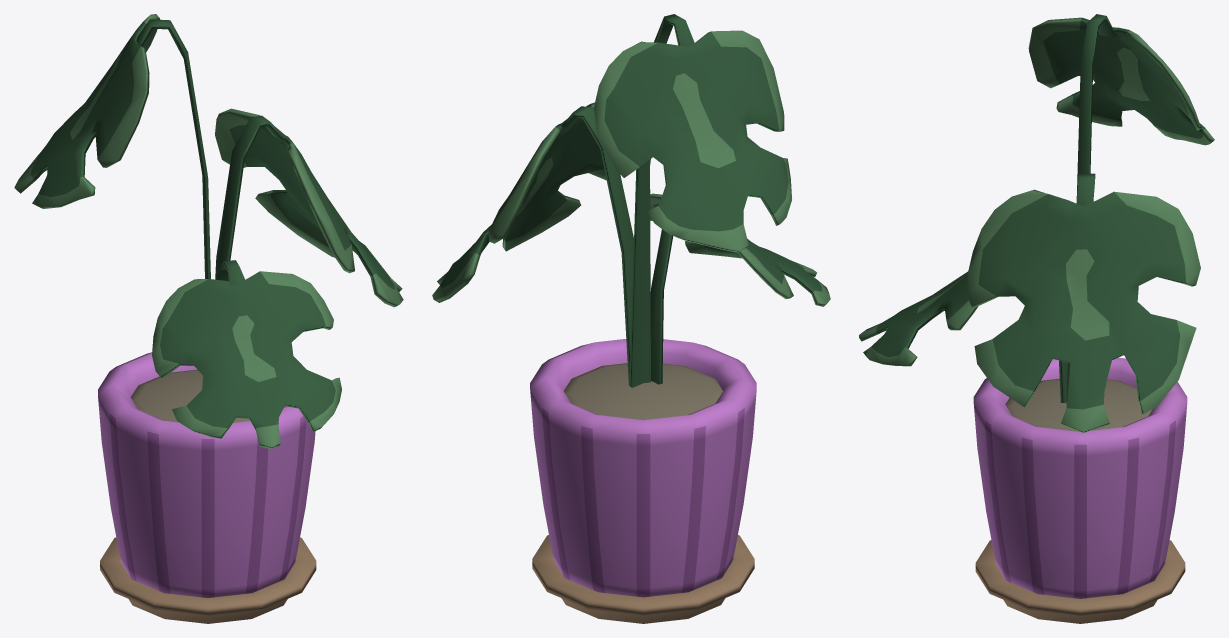
Rendered from plant_monstera1.gltf.
The picture shows the model from 3 angles, left to right: view 1: azimuth 30°, elevation 25°; view 2: azimuth 150°, elevation 25°; view 3: azimuth 270°, elevation 25°; orthographic projection. The views are drawn at different scales.
Visible parts, largest first — view 1: Cylinder.011, Circle.001, Circle.002, Circle, Cylinder.012, Plane.005, Cylinder.013; view 2: Cylinder.011, Circle.002, Plane.005, Circle, Cylinder.012, Cylinder.013, Circle.001; view 3: Circle, Cylinder.011, Circle.002, Cylinder.012, Circle.001, Cylinder.013, Plane.005.
Boxes of the visible parts, box(x1,y1,x2,y2) form: Cylinder.011: box(98, 352, 315, 597); Circle.001: box(152, 271, 341, 448); Circle.002: box(14, 14, 159, 208); Circle: box(215, 108, 403, 307); Cylinder.012: box(100, 537, 316, 623); Plane.005: box(136, 19, 284, 285); Cylinder.013: box(130, 369, 250, 422); Cylinder.011: box(530, 339, 756, 597); Circle.002: box(594, 30, 791, 252); Plane.005: box(561, 14, 694, 387); Circle: box(432, 102, 606, 302); Cylinder.012: box(532, 535, 754, 623); Cylinder.013: box(564, 363, 722, 420); Circle.001: box(650, 193, 830, 306); Circle: box(967, 189, 1200, 432); Cylinder.011: box(973, 357, 1187, 598); Circle.002: box(1028, 17, 1214, 145); Cylinder.012: box(975, 540, 1185, 623); Circle.001: box(859, 271, 978, 366); Cylinder.013: box(1005, 378, 1152, 431); Plane.005: box(1059, 14, 1114, 404).
Size of the model in its own units: 0.7506 by 1.19 by 0.6911.
